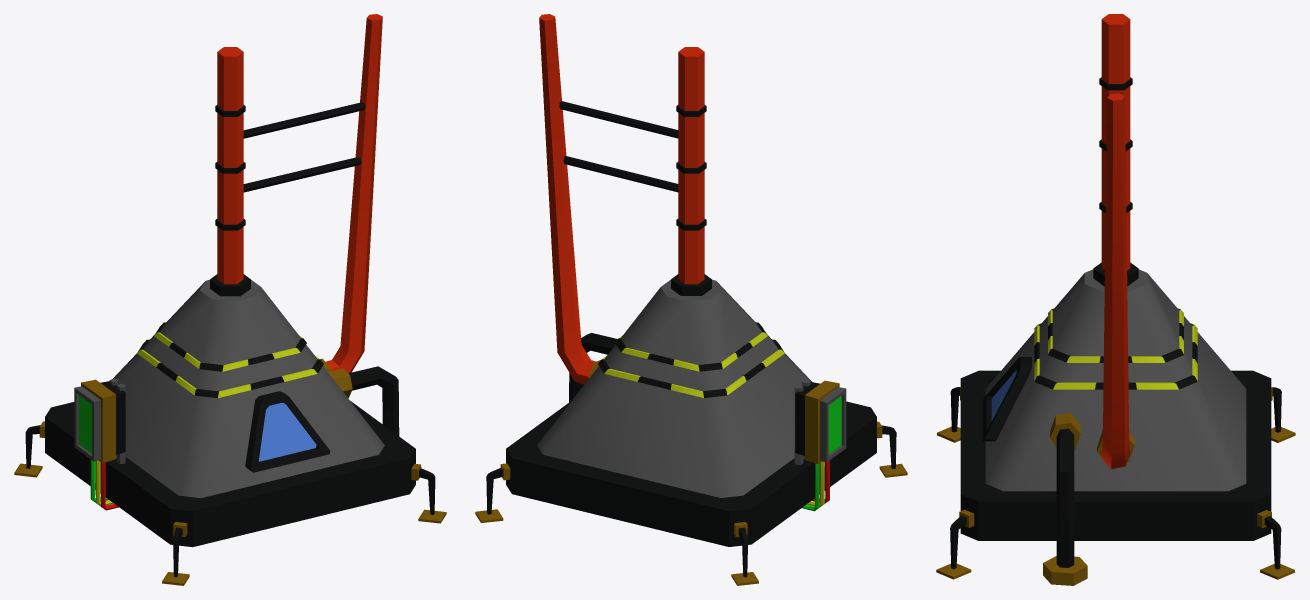
File: maquina4.fbx
3 renders of one model, left to right at view 1: azimuth 30°, elevation 25°; view 2: azimuth 150°, elevation 25°; view 3: azimuth 270°, elevation 25°, orthographic. The views are drawn at different scales.
Parts seen in each view (by area): view 1: machine_4; view 2: machine_4; view 3: machine_4.
Part boxes in pixels (x1,y1,x2,y2): machine_4: (14,14,446,585); machine_4: (475,14,907,585); machine_4: (936,14,1295,585).
Bounding box in the file's own units: 757 × 1068 × 718.
